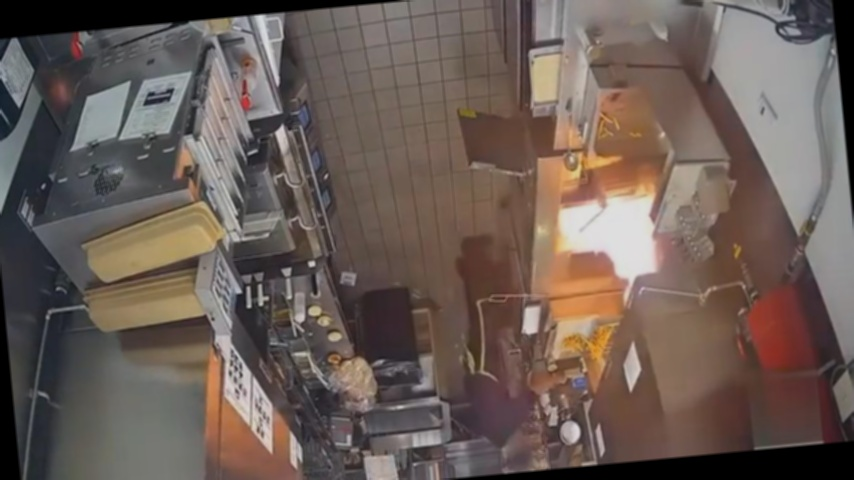fire: (550, 169, 677, 310)
